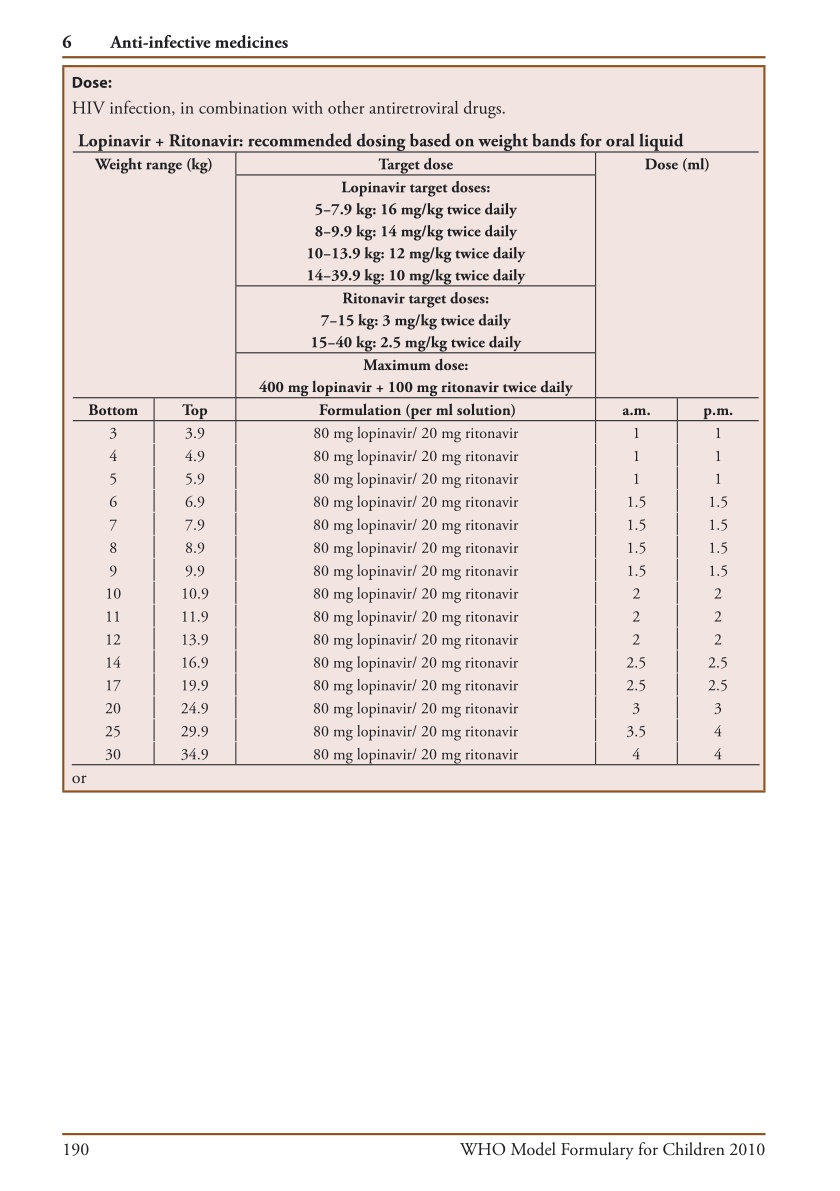merged_cells: (60, 63, 766, 793)
